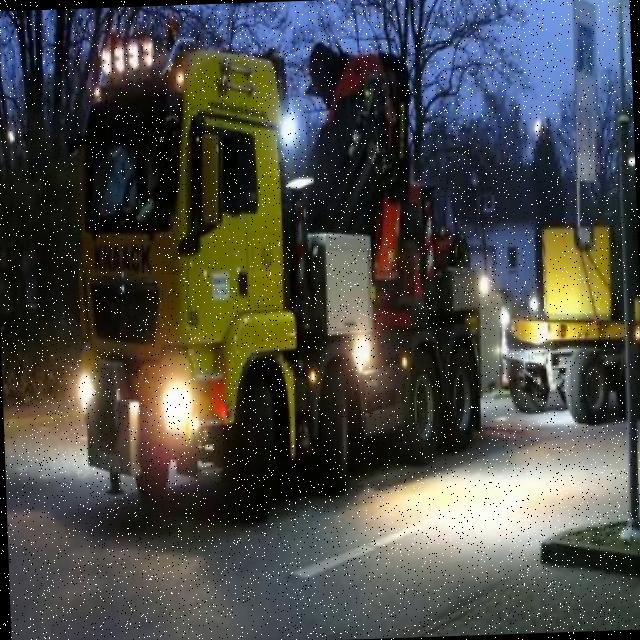Mobile Crane: (68, 31, 484, 508)
